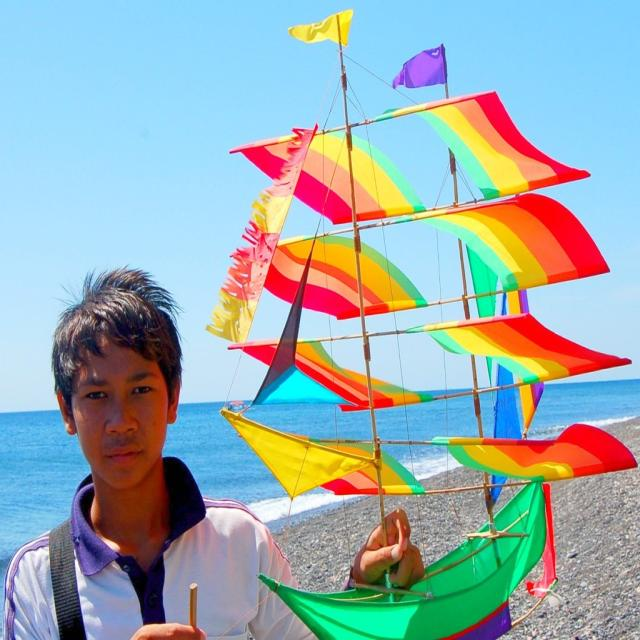Boat: (147, 52, 631, 640)
